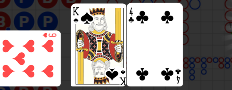4C: (127, 6, 135, 24)
9H: (41, 31, 57, 38)
